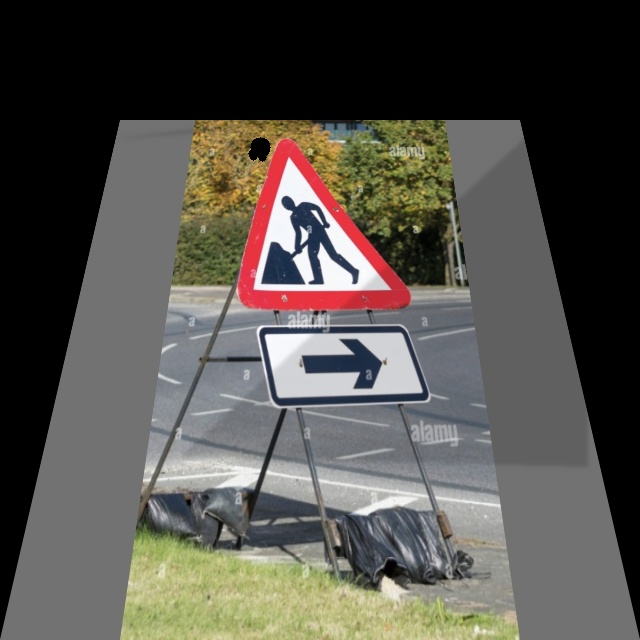Men_at_Work: (216, 139, 419, 310)
